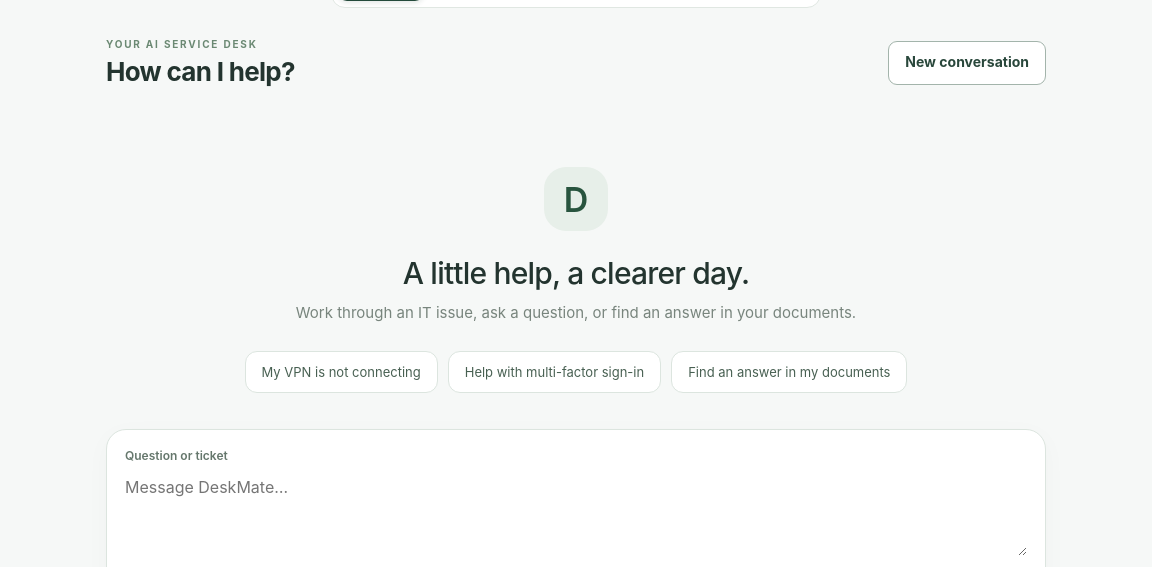
Test: preserves the provider error and restores its saved case for retry
The width and height of the screenshot is (1152, 567).
Type "An incident" into the text box labelled "Question or ticket" at [576, 513], box [125,471,1027,556]
(page scrolled)
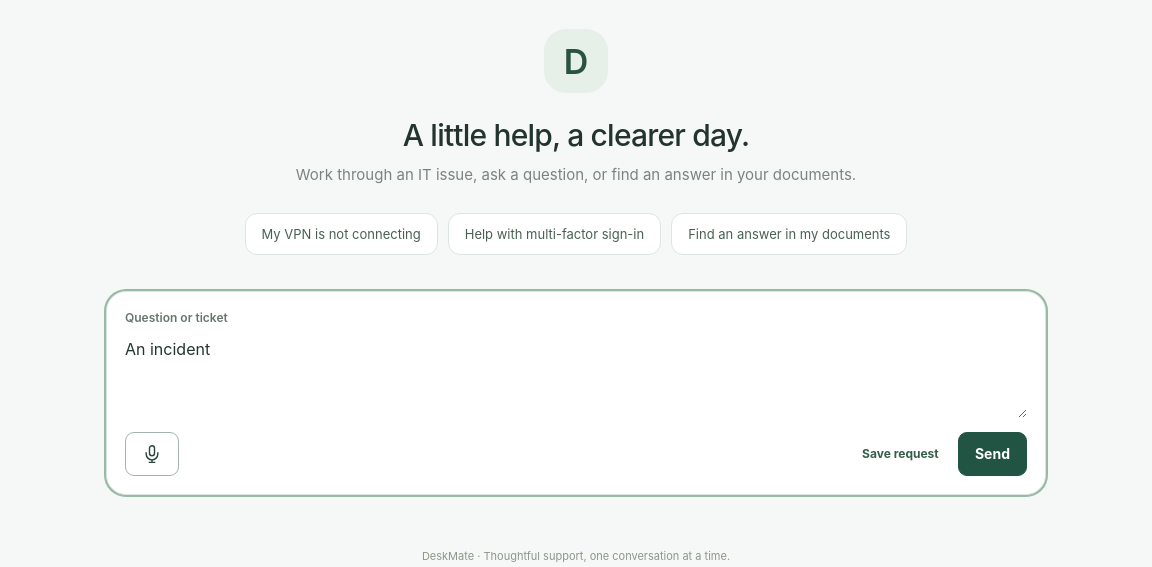
Click the button "Send" at [992, 454], box [958,432,1027,476]
(page scrolled)
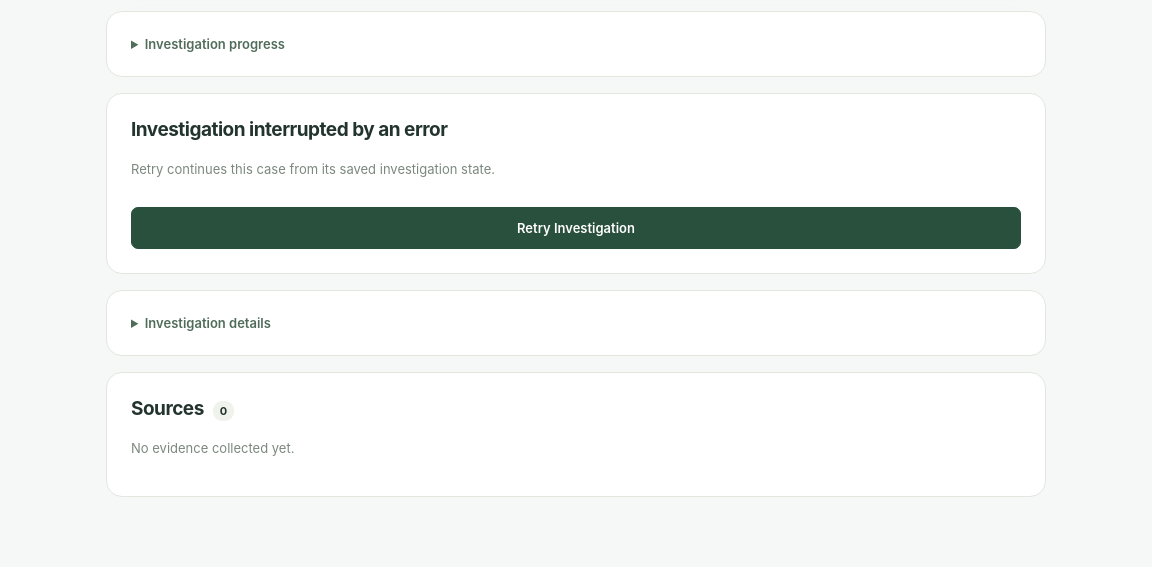
Check: the button "Retry Investigation" is enabled, box [131,207,1021,249]
